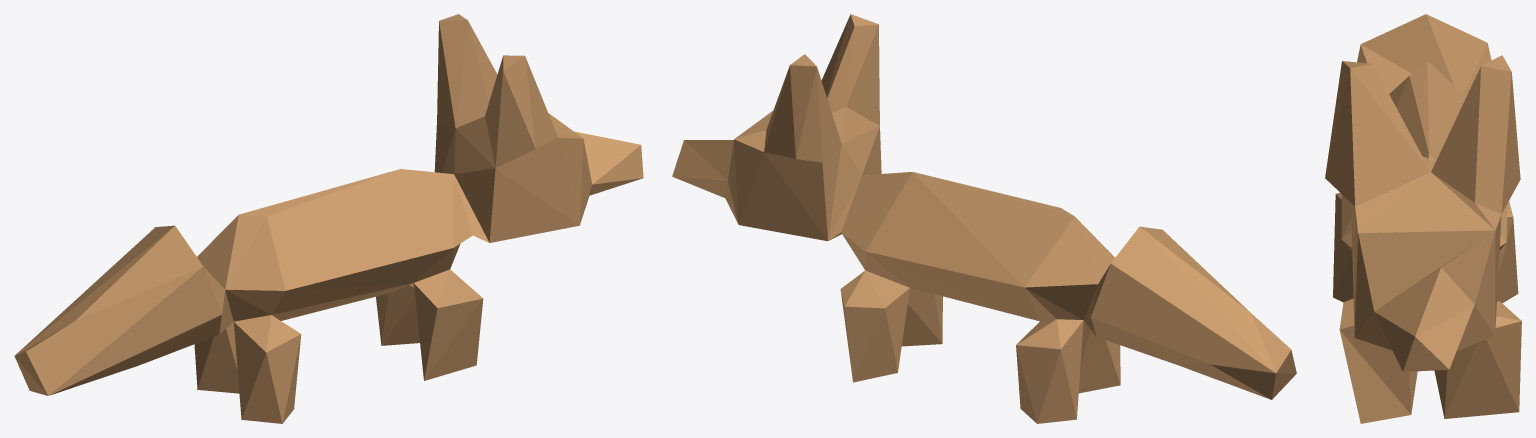
3 renders of one model, left to right at view 1: azimuth 30°, elevation 25°; view 2: azimuth 150°, elevation 25°; view 3: azimuth 270°, elevation 25°, orthographic. The views are drawn at different scales.
Visible parts, largest first — view 1: part0; view 2: part0; view 3: part0.
Boxes of the visible parts, x1,y1,x2,y2 form: part0: (14,14,643,423); part0: (672,14,1296,423); part0: (1325,14,1521,423).
Size of the model in its own units: 4.08 by 1.94 by 0.8936.
